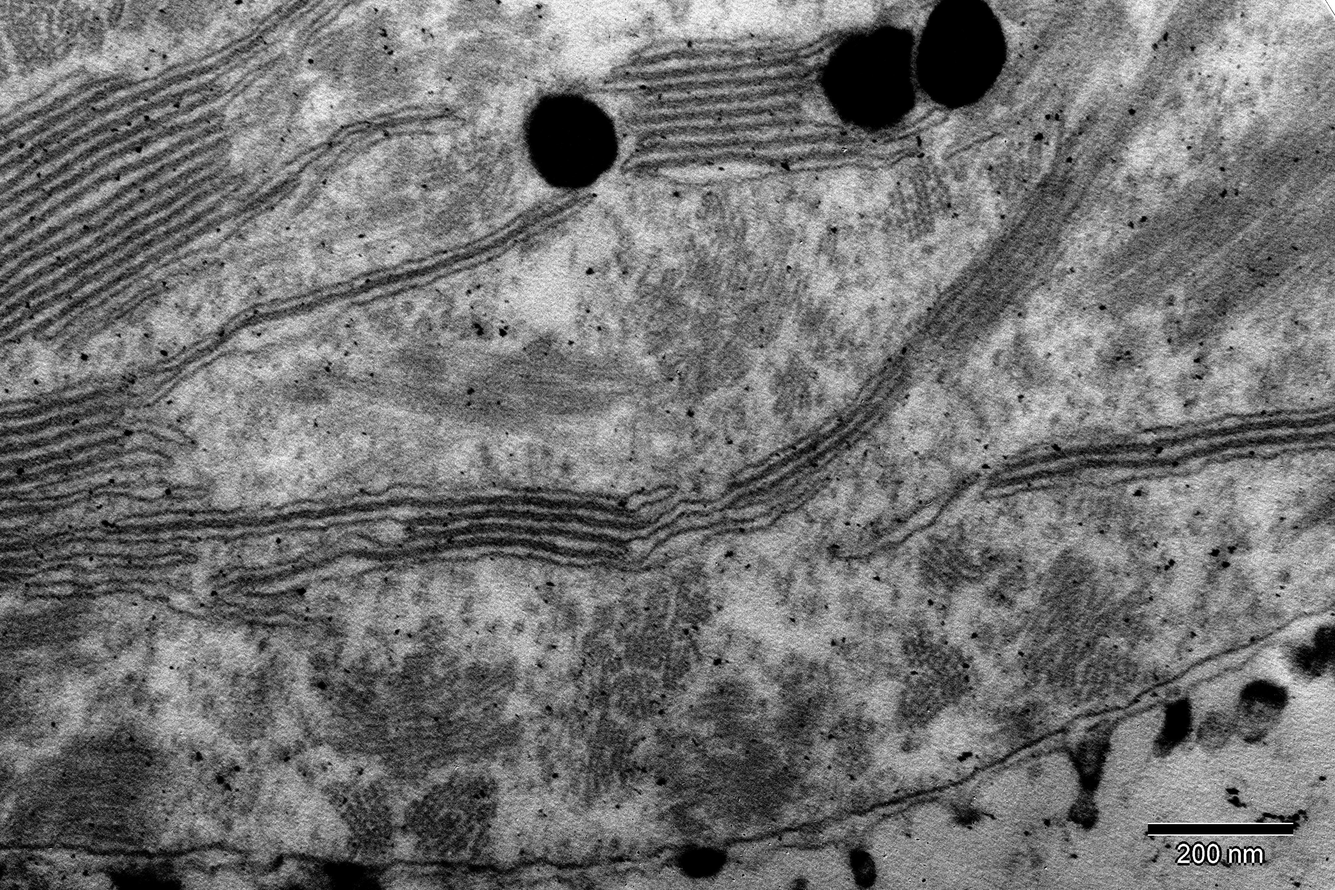granum: (0, 49, 305, 362), (906, 71, 1165, 360), (614, 30, 930, 191), (0, 362, 156, 583), (997, 398, 1332, 499), (724, 348, 923, 512), (402, 481, 637, 575)
